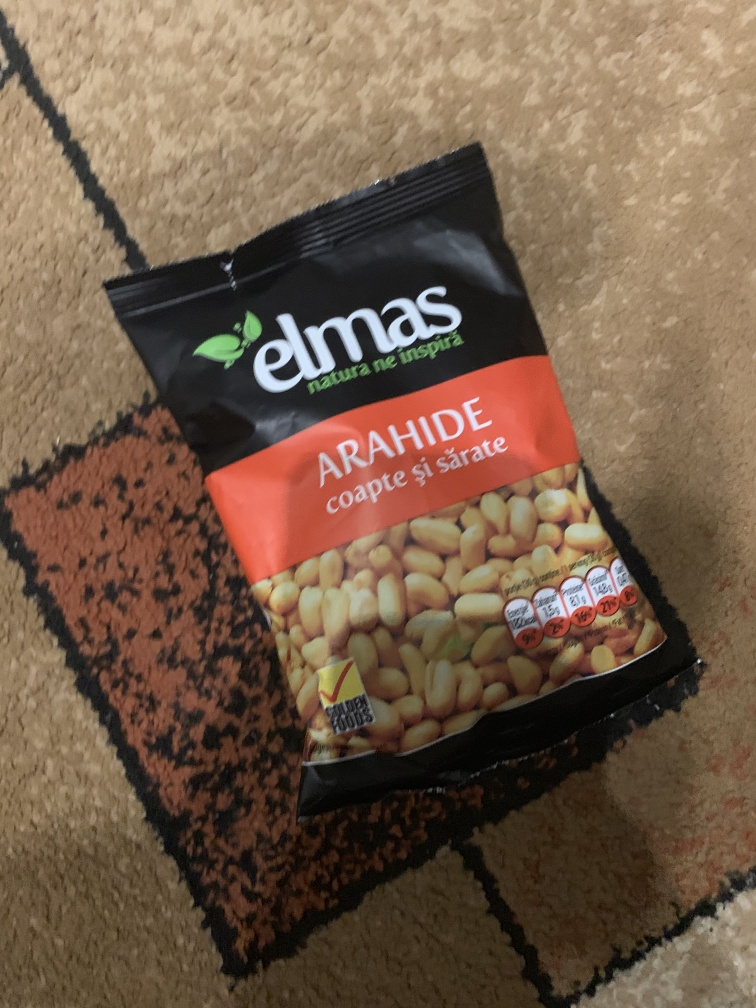peanuts: (92, 139, 714, 807)
